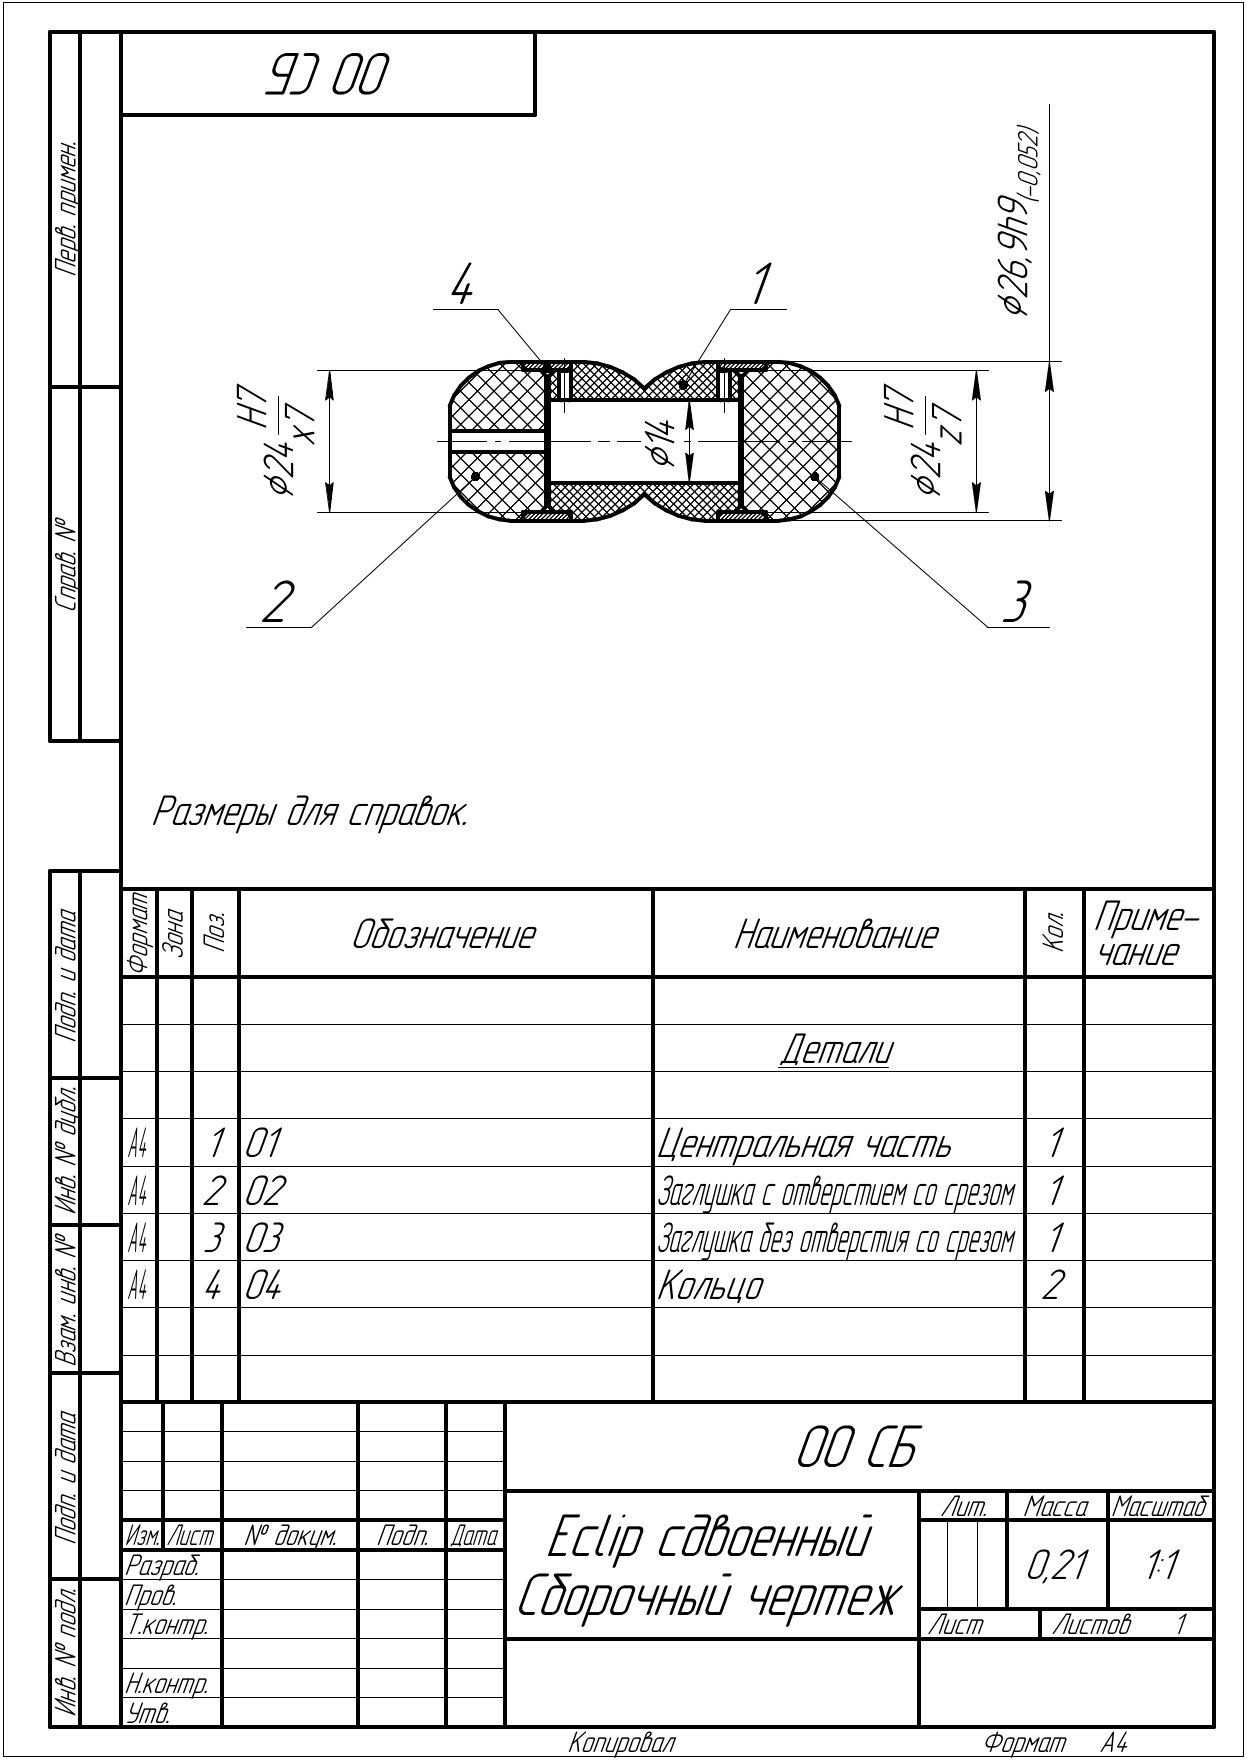Диаметральный размер: (995, 99, 1068, 530), (876, 367, 992, 518), (228, 360, 337, 520), (642, 398, 696, 487)
Допуск: (996, 115, 1041, 236)
Технические требования: (142, 781, 1163, 837)
